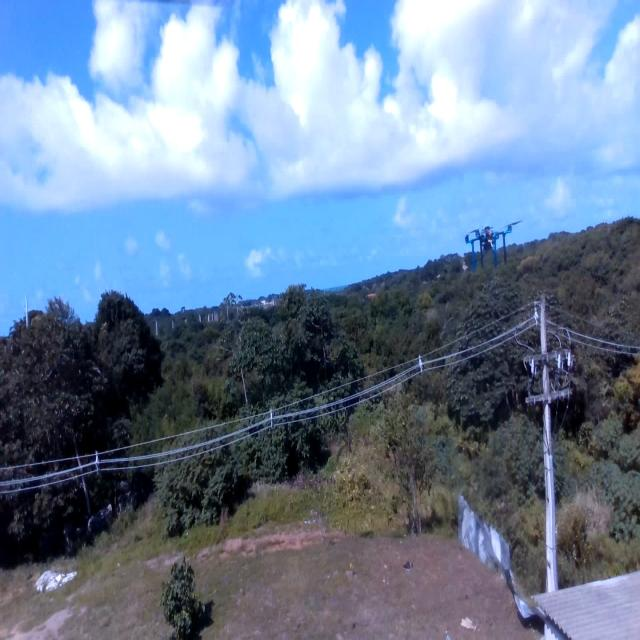-uav-: (458, 205, 527, 271)
